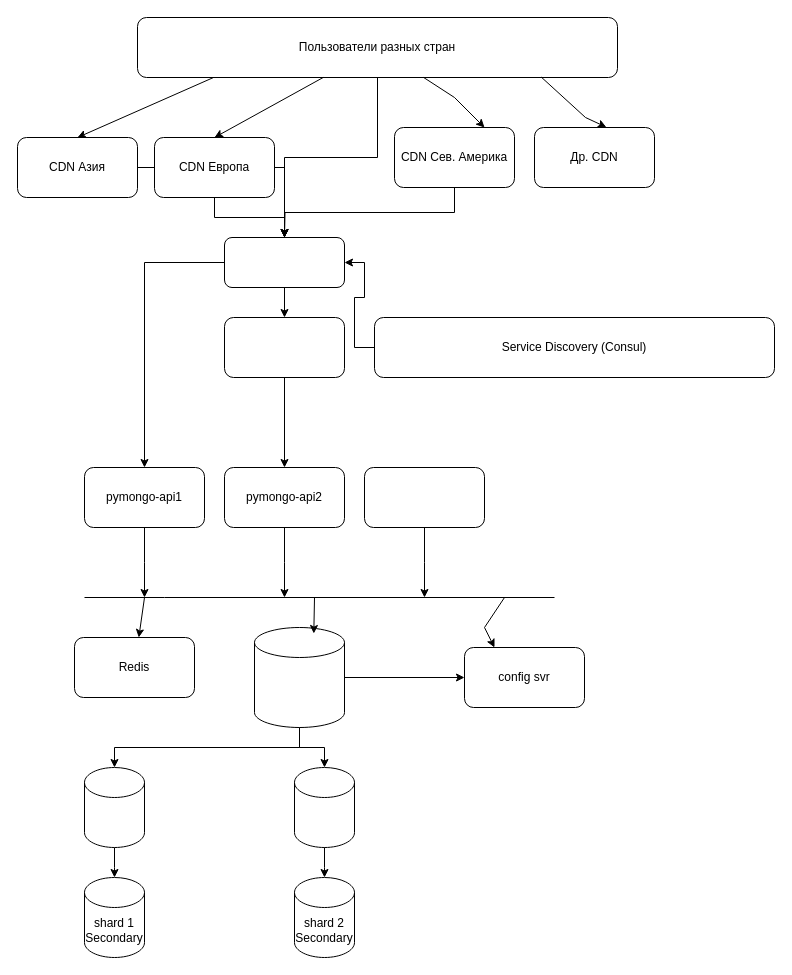
The diagram is 792 pixels wide and 975 high, and some of its shapes have lost their labels. Here are the shapes that lost their labels. From the top down, the centre of each, then its label:
At point 284,262: "API Gateway (Kong)".
At point 284,347: "pymongo-api".
At point 424,497: "pymongo-api3".
At point 299,677: "mongo_router".
At point 114,807: "shard 1 primary".
At point 324,807: "shard 2 primary".
